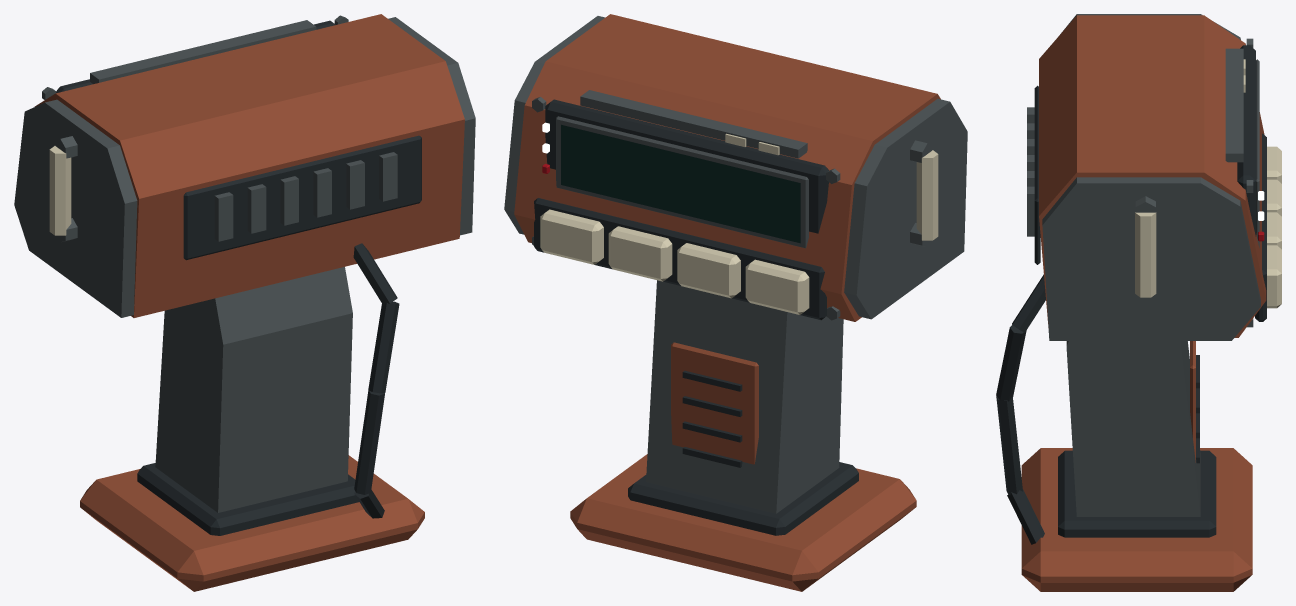
The model's file is console.fbx.
3 renders of one model, left to right at view 1: azimuth 30°, elevation 25°; view 2: azimuth 150°, elevation 25°; view 3: azimuth 270°, elevation 25°, orthographic.
Parts seen in each view (by area): view 1: terminal_casting, pedestal, foot, left_cheek, rear_service_panel, rubber_mount, brow_strip, right_cheek, grab_rail, armoured_cable.002, armoured_cable.001, armoured_cable (+6 smaller); view 2: terminal_casting, pedestal, foot, left_cheek, screen, pedestal_front_plate, screen_bezel, rubber_mount, key_recess, screen_inner_lip, brow_strip, tile_0 (+5 smaller); view 3: terminal_casting, right_cheek, pedestal, foot, rubber_mount, brow_strip, screen_bezel, grab_rail.001, armoured_cable.002, armoured_cable.001, rear_service_panel, armoured_cable.003 (+9 smaller).
Part boxes in pixels (bbox=[...]): terminal_casting: bbox=[34, 14, 464, 317]; pedestal: bbox=[155, 267, 352, 512]; foot: bbox=[80, 455, 424, 591]; left_cheek: bbox=[14, 99, 137, 317]; rear_service_panel: bbox=[183, 135, 421, 260]; rubber_mount: bbox=[137, 463, 358, 535]; brow_strip: bbox=[90, 20, 316, 84]; right_cheek: bbox=[388, 17, 475, 235]; grab_rail: bbox=[49, 146, 71, 235]; armoured_cable.002: bbox=[354, 390, 384, 494]; armoured_cable.001: bbox=[368, 301, 399, 393]; armoured_cable: bbox=[353, 243, 397, 305]; terminal_casting: bbox=[514, 14, 940, 321]; pedestal: bbox=[646, 280, 843, 513]; foot: bbox=[570, 454, 916, 591]; left_cheek: bbox=[844, 98, 967, 319]; screen: bbox=[561, 124, 800, 243]; pedestal_front_plate: bbox=[671, 342, 758, 464]; screen_bezel: bbox=[545, 99, 828, 233]; rubber_mount: bbox=[628, 462, 858, 535]; key_recess: bbox=[534, 198, 826, 320]; screen_inner_lip: bbox=[556, 116, 808, 248]; brow_strip: bbox=[580, 90, 807, 158]; tile_0: bbox=[745, 259, 809, 314]; terminal_casting: bbox=[1039, 15, 1266, 337]; right_cheek: bbox=[1042, 177, 1260, 340]; pedestal: bbox=[1066, 341, 1200, 516]; foot: bbox=[1021, 448, 1252, 591]; rubber_mount: bbox=[1058, 450, 1216, 537]; brow_strip: bbox=[1225, 48, 1243, 162]; screen_bezel: bbox=[1237, 45, 1255, 236]; grab_rail.001: bbox=[1135, 212, 1156, 297]; armoured_cable.002: bbox=[996, 396, 1022, 495]; armoured_cable.001: bbox=[996, 325, 1026, 401]; rear_service_panel: bbox=[1034, 85, 1040, 264]; armoured_cable.003: bbox=[1007, 489, 1044, 544].
Bounding box in the file's own units: 1.3 × 1.43 × 0.8302.
